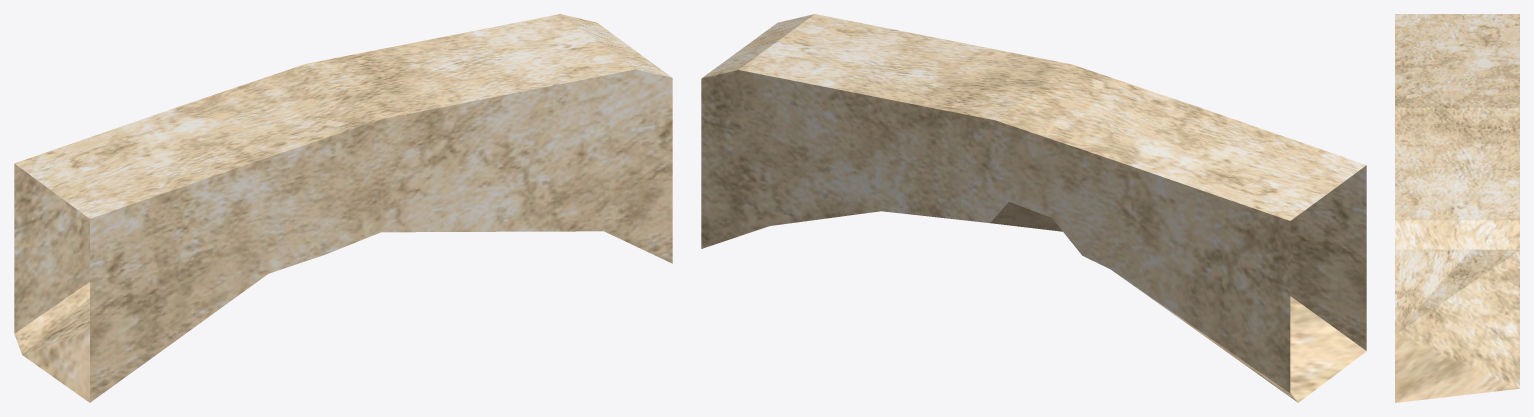
The model's file is thm_tato_imprv_over_beam_s01_l2.fbx.
3 renders of one model, left to right at view 1: azimuth 30°, elevation 25°; view 2: azimuth 150°, elevation 25°; view 3: azimuth 270°, elevation 25°, orthographic. The views are drawn at different scales.
Parts seen in each view (by area): view 1: mesh_node; view 2: mesh_node; view 3: mesh_node.
Part boxes in pixels (x1,y1,x2,y2): mesh_node: (14, 14, 672, 402); mesh_node: (701, 14, 1366, 402); mesh_node: (1395, 14, 1519, 402).
Bounding box in the file's own units: 4.23 × 1.49 × 0.95.
2 materials, 2 textured.
